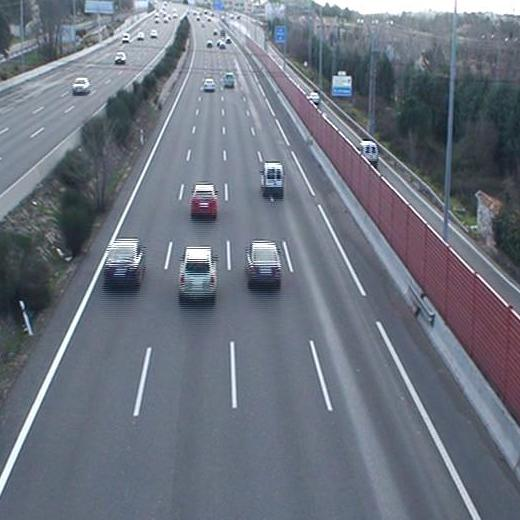car: (176, 247, 218, 302), (102, 239, 144, 289), (247, 240, 281, 286), (189, 184, 219, 218), (202, 78, 217, 93)
van: (259, 161, 284, 195), (223, 71, 234, 89)
